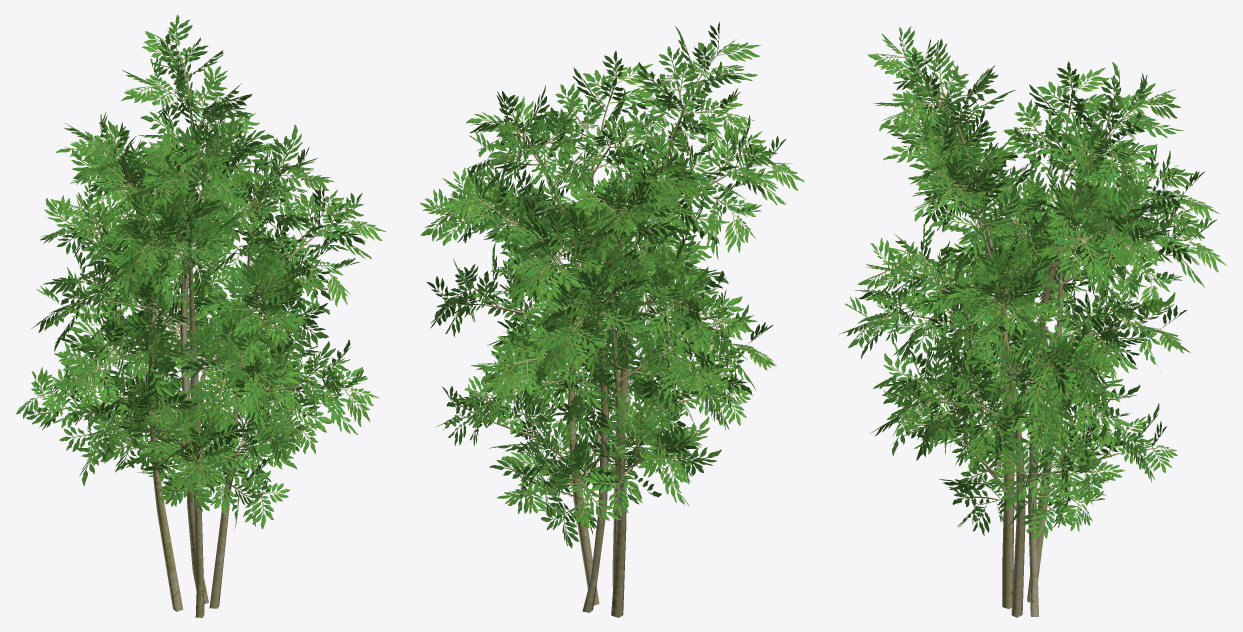
The model's file is MS_ShrubTree01c.fbx.
The picture shows the model from 3 angles, left to right: view 1: azimuth 30°, elevation 25°; view 2: azimuth 150°, elevation 25°; view 3: azimuth 270°, elevation 25°; orthographic projection. The views are drawn at different scales.
Visible parts, largest first — view 1: Leaves, TreeBare; view 2: Leaves, TreeBare; view 3: Leaves, TreeBare.
Boxes of the visible parts, x1=… form: Leaves: x1=16, y1=15, x2=386, y2=529; TreeBare: x1=72, y1=81, x2=314, y2=617; Leaves: x1=420, y1=22, x2=804, y2=547; TreeBare: x1=482, y1=86, x2=726, y2=617; Leaves: x1=839, y1=26, x2=1226, y2=540; TreeBare: x1=913, y1=85, x2=1152, y2=617.
Bounding box in the file's own units: 414 × 654 × 413.
